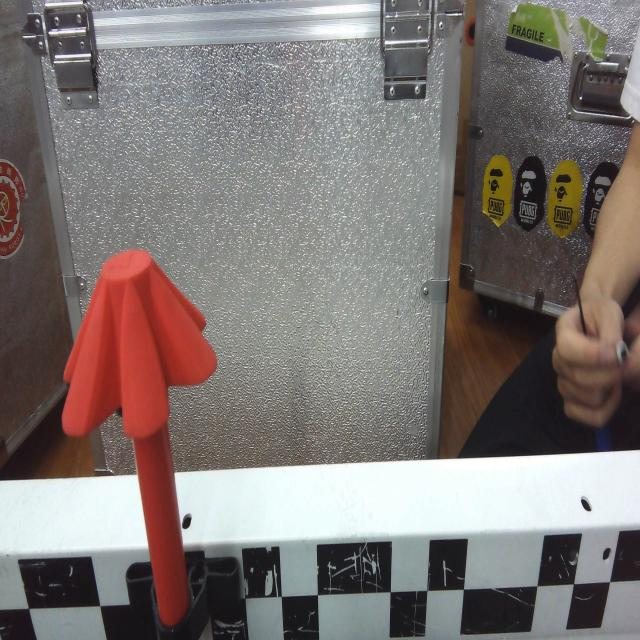zred-Stake-Head: (62, 248, 218, 440)
